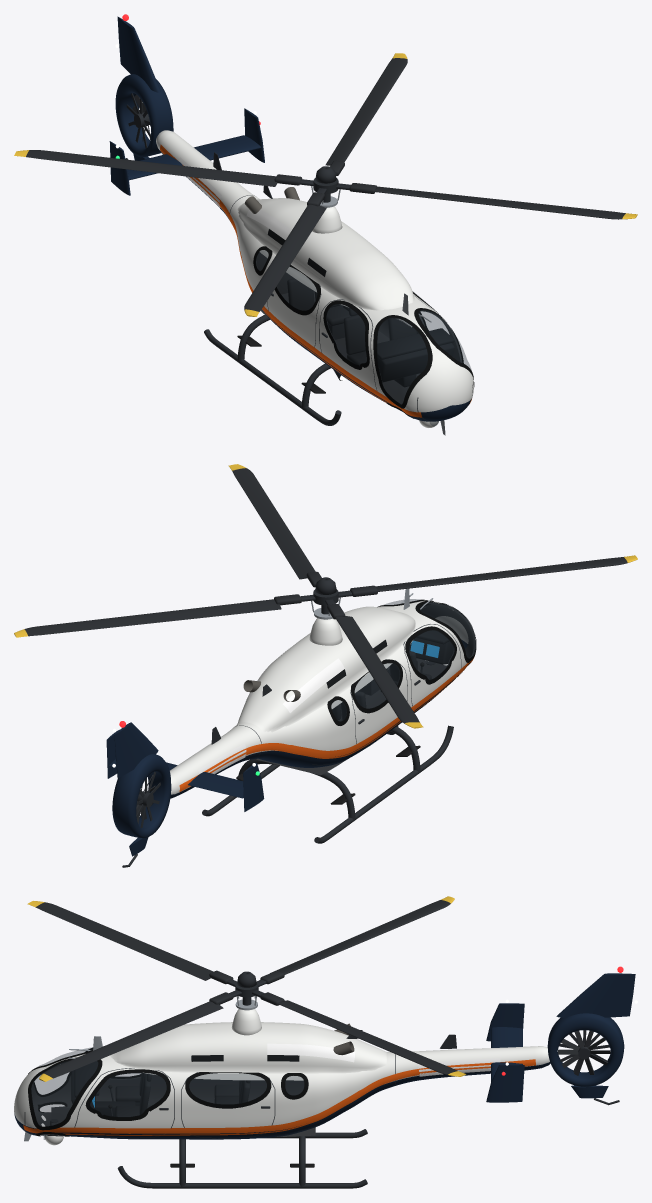
File: helicopter.glb
The picture shows the model from 3 angles, top to bottom: view 1: azimuth 30°, elevation 25°; view 2: azimuth 150°, elevation 25°; view 3: azimuth 270°, elevation 25°; orthographic projection. The views are drawn at different scales.
Parts seen in each view (by area): view 1: Body, Trim, Door_Pilot, Blade_2, Blade_3, Blade_1, Blade_0, MainRotor, Trim_Door; view 2: Body, Trim, Blade_1, Door_Pilot, Blade_0, Blade_2, Blade_3, MainRotor, Trim_Door; view 3: Body, Trim, Blade_0, Blade_3, Blade_1, Blade_2, MainRotor, TailRotor, Door_Pilot.
Boxes of the visible parts, box(x1,y1,x2,y2) form: Body: box(109, 14, 473, 435); Trim: box(160, 144, 474, 421); Door_Pilot: box(320, 299, 378, 397); Blade_2: box(14, 150, 277, 186); Blade_3: box(244, 204, 326, 316); Blade_1: box(325, 53, 407, 165); Blade_0: box(375, 186, 637, 219); MainRotor: box(274, 160, 377, 206); Trim_Door: box(319, 299, 379, 397); Body: box(106, 588, 475, 867); Trim: box(179, 599, 476, 791); Blade_1: box(14, 599, 281, 637); Door_Pilot: box(404, 624, 461, 710); Blade_0: box(228, 464, 315, 579); Blade_2: box(335, 616, 423, 728); Blade_3: box(375, 555, 637, 591); MainRotor: box(274, 571, 377, 619); Trim_Door: box(403, 624, 461, 711); Body: box(14, 966, 637, 1188); Trim: box(23, 1043, 535, 1138); Blade_0: box(39, 1001, 223, 1081); Blade_3: box(27, 901, 213, 980); Blade_1: box(278, 1000, 466, 1076); Blade_2: box(270, 896, 454, 974); MainRotor: box(209, 970, 284, 1005); TailRotor: box(558, 1030, 610, 1075); Door_Pilot: box(95, 1074, 166, 1101).
Size of what is drawn, in the model's own units: 7.53 by 3.71 by 10.69.
